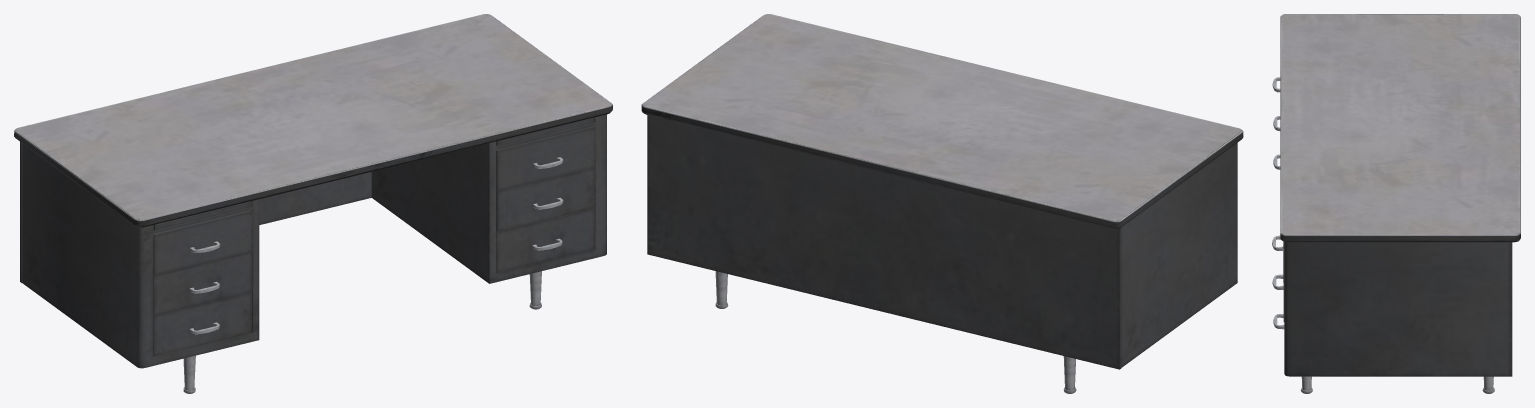
File: metal_office_desk.glb
The picture shows the model from 3 angles, left to right: view 1: azimuth 30°, elevation 25°; view 2: azimuth 150°, elevation 25°; view 3: azimuth 270°, elevation 25°; orthographic projection. The views are drawn at different scales.
Visible parts, largest first — view 1: CC0_metal_office_desk; view 2: CC0_metal_office_desk; view 3: CC0_metal_office_desk.
Part boxes in pixels (x1,y1,x2,y2): CC0_metal_office_desk: [14, 14, 612, 393]; CC0_metal_office_desk: [641, 14, 1243, 393]; CC0_metal_office_desk: [1272, 14, 1520, 393].
Bounding box in the file's own units: 2 × 0.7875 × 0.9482.
Materials: 1 (1 with a texture image).
